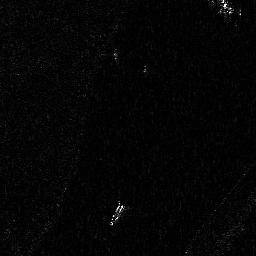ship: (108, 202, 125, 227)
